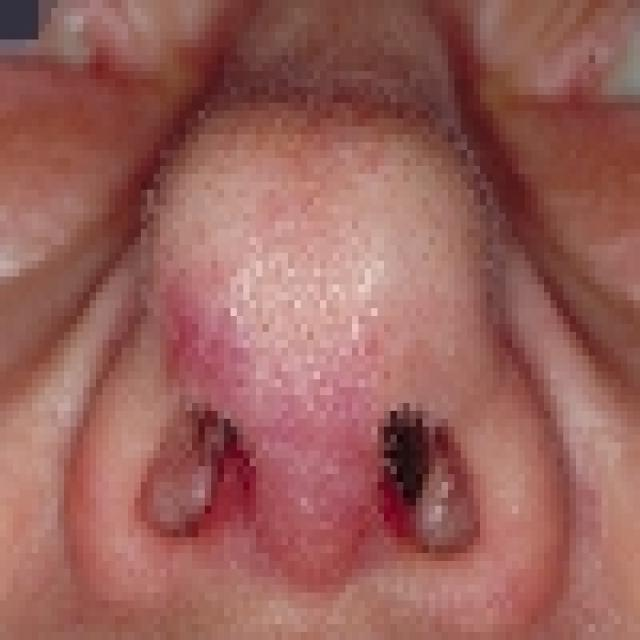lupus: (140, 197, 459, 615)
